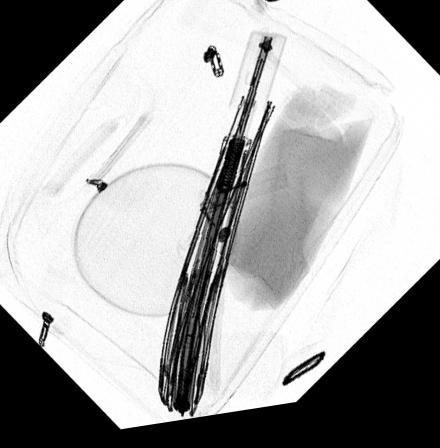Lighter: (198, 171, 287, 222)
